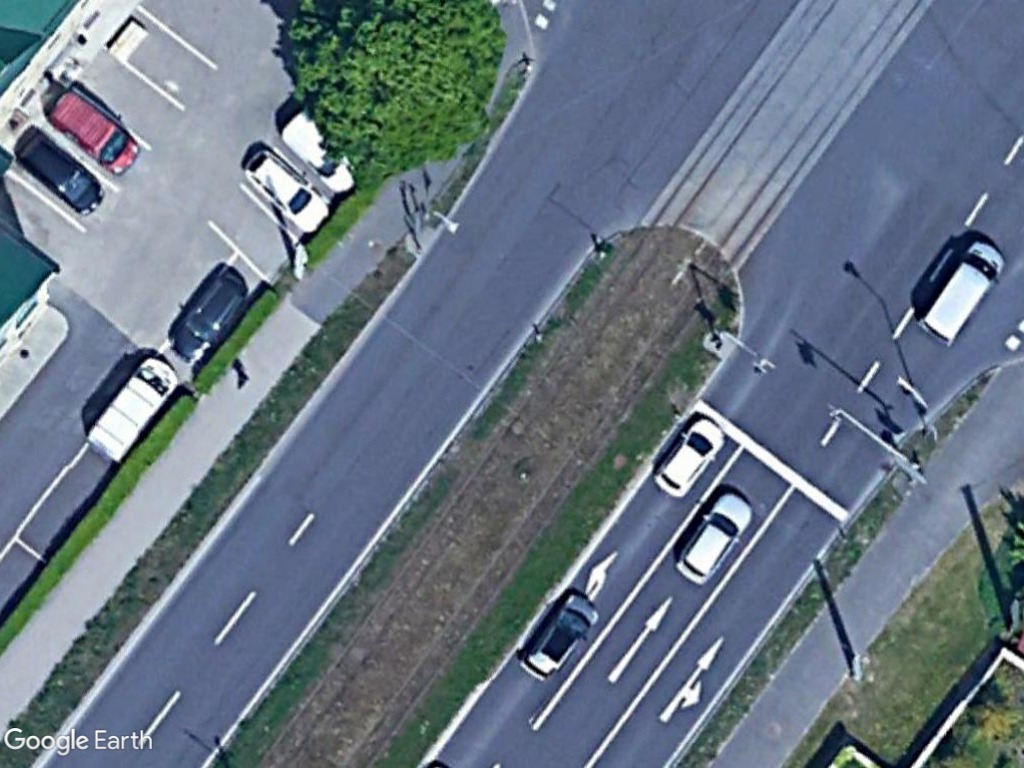car: (666, 488, 755, 587), (512, 587, 600, 684), (239, 146, 331, 235), (166, 267, 248, 362), (650, 416, 728, 499)
van: (80, 351, 184, 464), (915, 238, 1006, 351), (50, 92, 144, 177), (17, 133, 108, 220)
